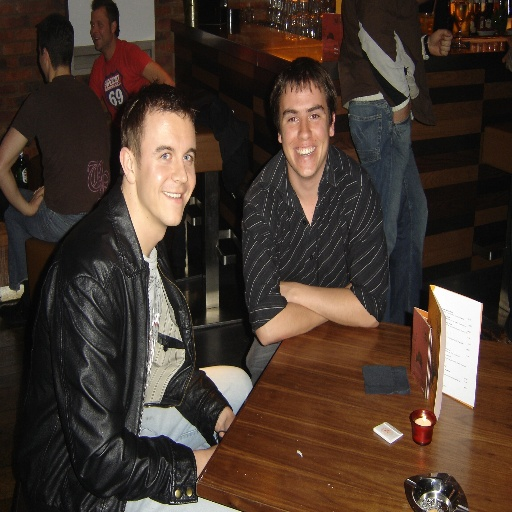hand: (427, 27, 454, 58), (197, 443, 218, 475), (214, 406, 233, 438), (393, 100, 412, 124), (29, 185, 44, 215)
